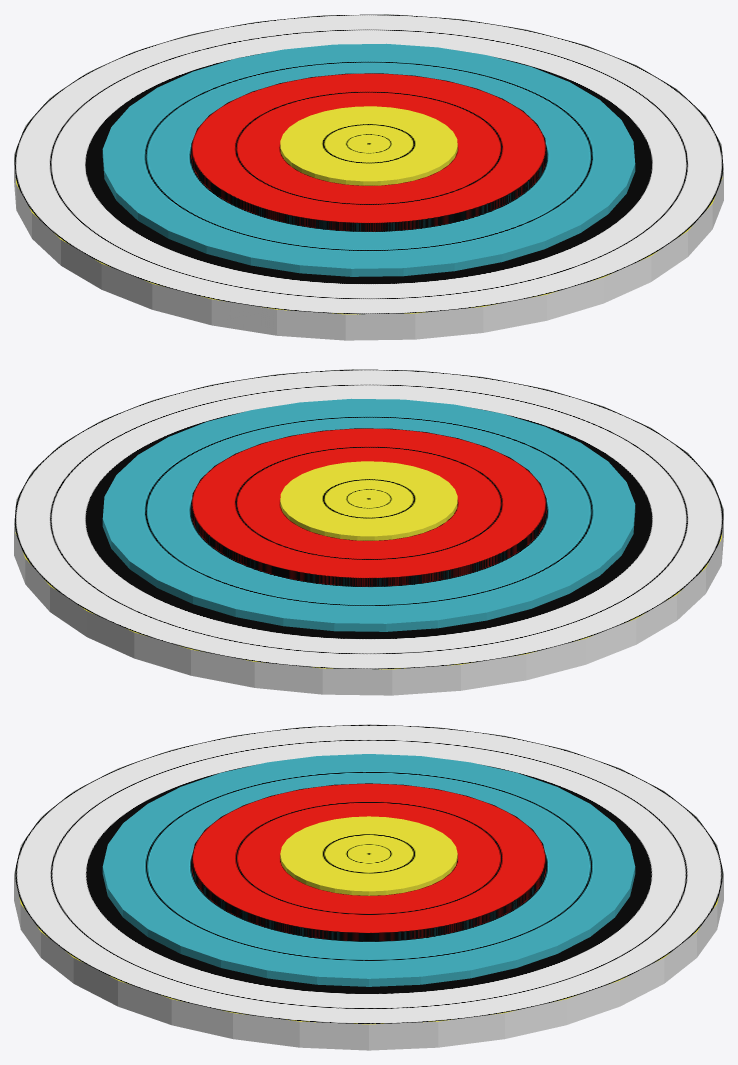
The model's file is DianaNormal.fbx.
3 views of the same model, one above another, from view 1: azimuth 30°, elevation 25°; view 2: azimuth 150°, elevation 25°; view 3: azimuth 270°, elevation 25° (orthographic).
Parts seen in each view (by area): view 1: White, Blue, Red, Yellow; view 2: White, Blue, Red, Yellow; view 3: White, Blue, Red, Yellow.
Part boxes in pixels (x1,y1,x2,y2): White: (14, 14, 723, 340); Blue: (102, 43, 635, 276); Red: (191, 73, 546, 231); Yellow: (280, 106, 457, 185); White: (14, 369, 723, 695); Blue: (102, 398, 635, 631); Red: (191, 428, 546, 586); Yellow: (280, 461, 457, 540); White: (14, 724, 723, 1050); Blue: (102, 754, 635, 986); Red: (191, 783, 546, 941); Yellow: (280, 816, 457, 895).
Bounding box in the file's own units: 800 × 57.97 × 800.
